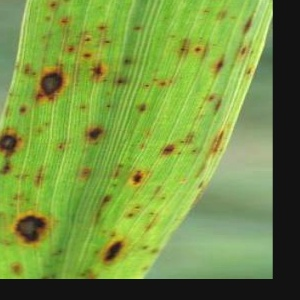Bacterial_Leaf_Blight: (6, 212, 57, 248), (33, 60, 69, 104), (100, 234, 130, 268), (80, 121, 109, 150), (86, 56, 112, 84), (28, 161, 51, 190), (238, 9, 261, 37), (208, 51, 231, 76), (211, 125, 228, 157), (0, 131, 21, 155), (180, 126, 199, 149), (158, 140, 179, 160), (129, 167, 147, 189), (176, 37, 192, 61), (79, 162, 94, 182), (14, 102, 32, 118), (8, 260, 26, 276), (212, 96, 225, 117), (0, 160, 15, 178), (142, 218, 158, 234), (134, 101, 150, 116), (100, 192, 116, 207), (242, 63, 256, 79), (39, 12, 57, 24), (76, 101, 91, 115), (46, 0, 62, 13), (64, 43, 79, 56), (59, 13, 72, 28), (216, 7, 229, 22), (84, 266, 99, 279), (21, 63, 33, 79), (148, 245, 162, 258), (94, 22, 109, 34), (114, 75, 127, 88), (79, 51, 94, 62), (39, 270, 57, 279), (55, 141, 68, 153), (129, 23, 144, 33), (121, 55, 133, 67), (196, 180, 208, 192), (3, 104, 12, 120), (102, 101, 115, 112), (237, 44, 248, 57), (124, 211, 136, 222), (188, 146, 201, 156), (192, 44, 203, 55), (206, 92, 217, 103), (142, 81, 154, 91), (99, 38, 114, 46), (201, 6, 213, 16), (91, 247, 103, 257), (158, 79, 169, 89), (139, 243, 150, 253), (140, 264, 152, 273), (109, 181, 121, 190), (54, 246, 66, 255), (174, 150, 185, 159), (138, 141, 147, 152), (169, 32, 178, 42), (134, 203, 144, 212), (35, 127, 45, 136), (108, 230, 118, 239), (162, 13, 172, 22), (77, 270, 87, 279), (6, 90, 17, 98), (83, 35, 92, 44), (43, 120, 53, 128), (147, 209, 157, 217), (99, 227, 108, 235), (159, 195, 167, 203), (229, 14, 237, 22), (249, 48, 256, 57), (167, 79, 176, 86), (198, 34, 205, 42), (31, 71, 39, 78), (197, 103, 204, 111), (33, 202, 39, 208), (24, 197, 30, 203), (9, 202, 15, 208)
